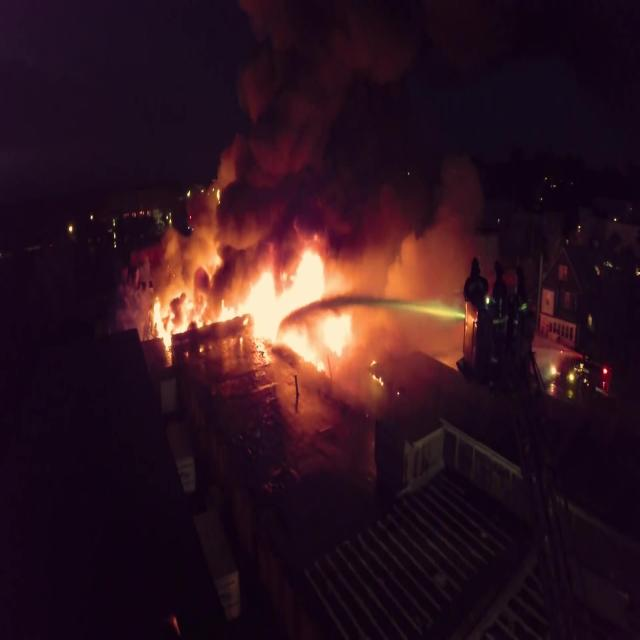Fire: (147, 243, 389, 392)
Smoke: (146, 0, 514, 340)
